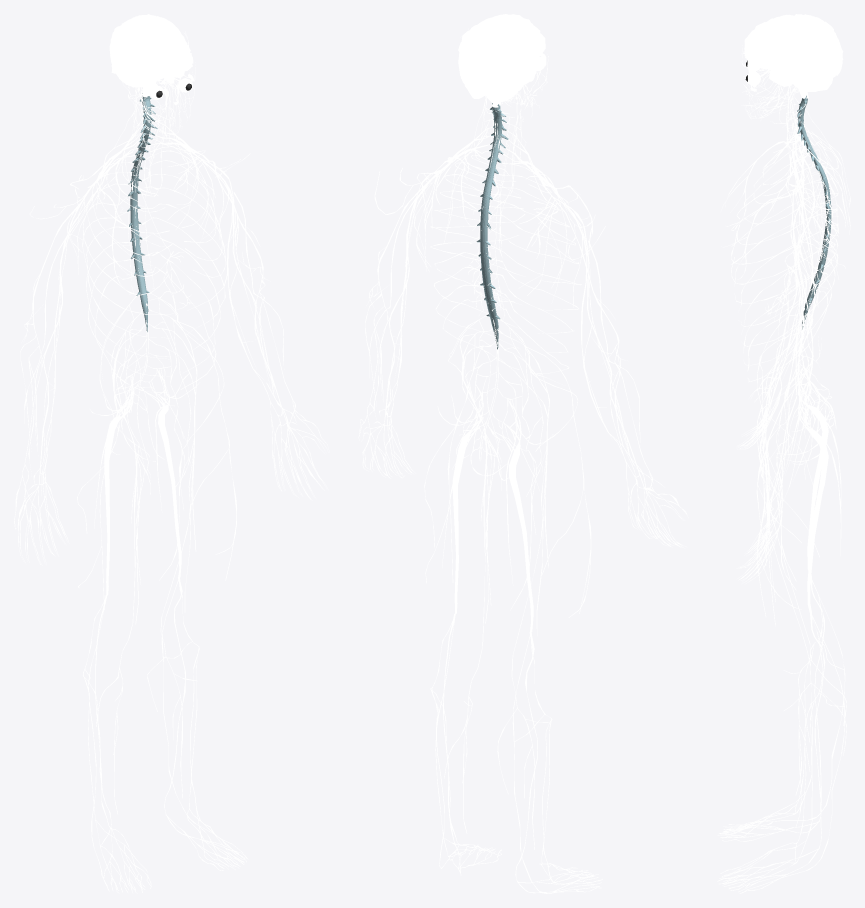
Rendered from system_nervous.glb.
3 renders of one model, left to right at view 1: azimuth 30°, elevation 25°; view 2: azimuth 150°, elevation 25°; view 3: azimuth 270°, elevation 25°, orthographic. The views are drawn at different scales.
Parts seen in each view (by area): view 1: system_nervous; view 2: system_nervous; view 3: system_nervous.
Part boxes in pixels (left/top/right/bottom): system_nervous: left=14, top=14, right=329, bottom=893; system_nervous: left=358, top=14, right=688, bottom=893; system_nervous: left=717, top=14, right=850, bottom=893.
Bounding box in the file's own units: 0.7027 × 1.78 × 0.2559.
